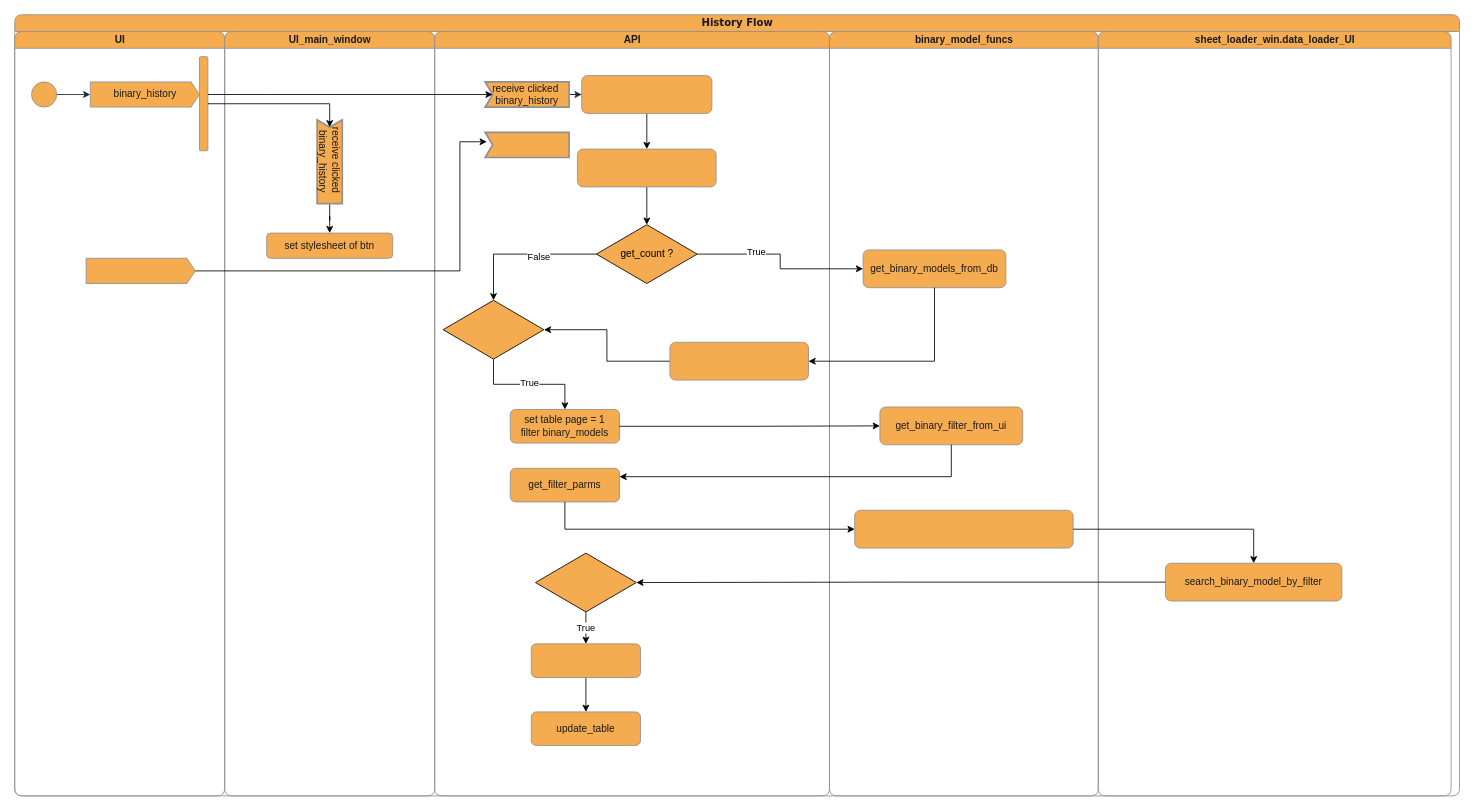
Image size: 1474x811. Some labels were removed from this diagram. The shapes that lost their labels are listed below. From the top down, each one's centre as x and y in pixels, then its label:
At pixel 646 94: "refresh_binary_ models_table_onevent".
At pixel 527 144: "receive clicked binary_filter_btn".
At pixel 646 167: "refresh_binary_models_table".
At pixel 140 270: "binary_filter_btn".
At pixel 493 329: "filter_mode ?".
At pixel 738 360: "self.binary_model_ table_nextorprev".
At pixel 963 528: "get_filtered_binary_models_from_db".
At pixel 585 582: "ret == True ?".
At pixel 585 660: "update_binary_model".
